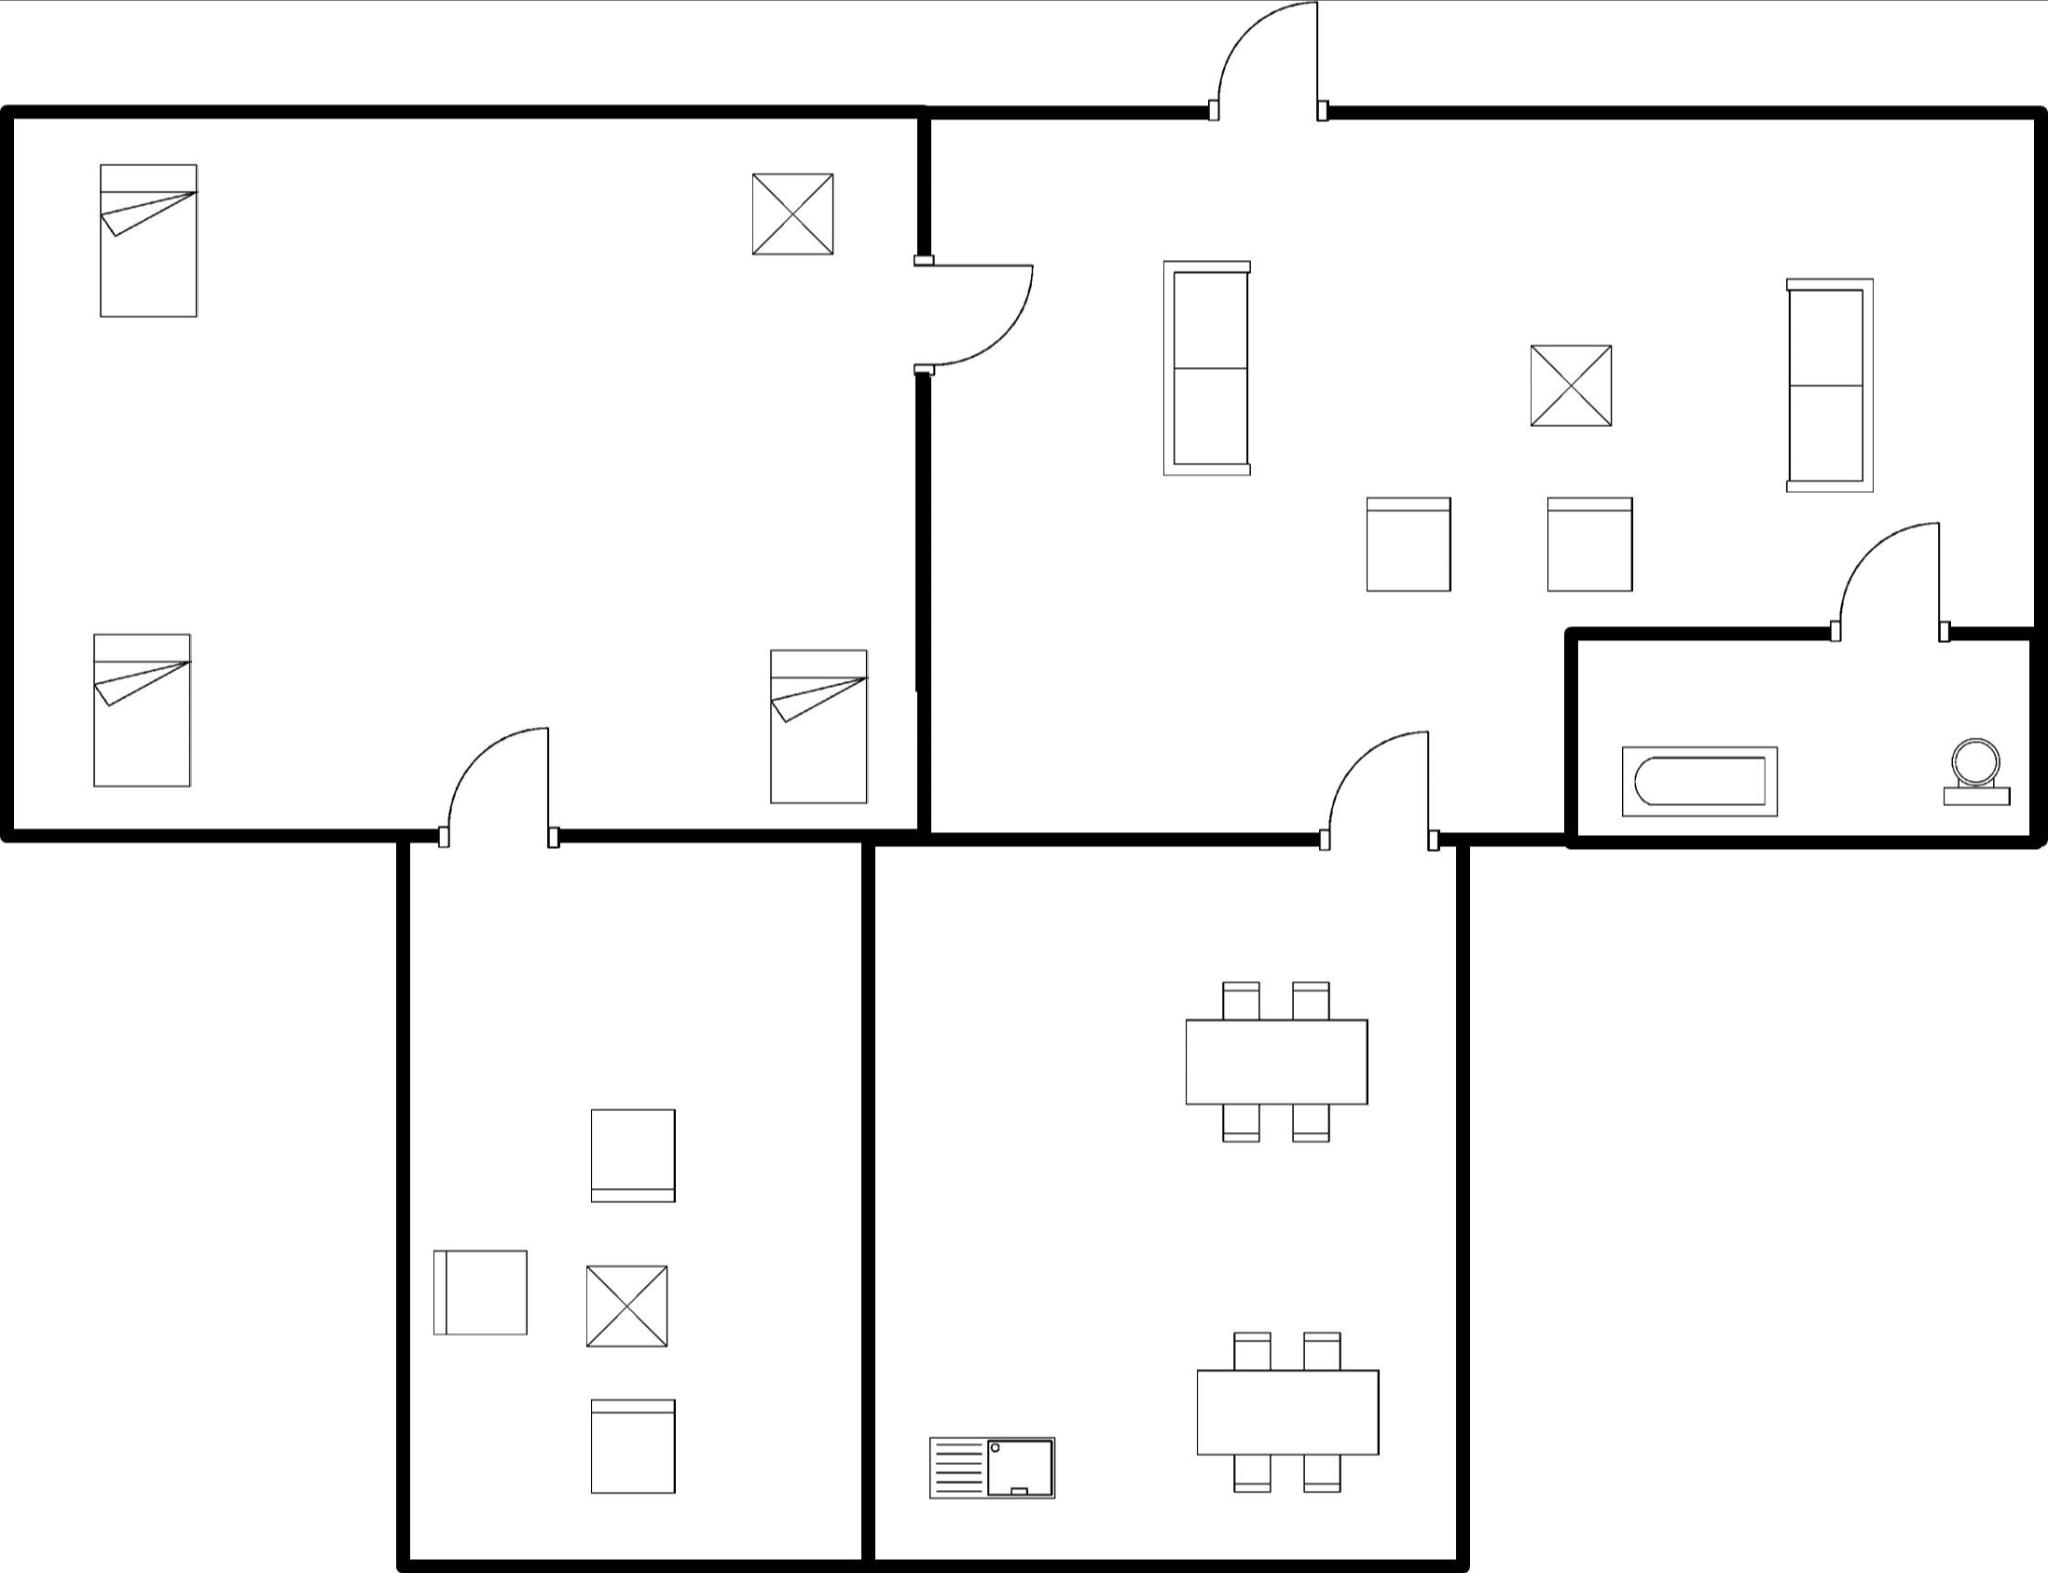bed: (76, 621, 211, 800), (760, 636, 880, 813), (92, 155, 210, 329)
dining_table: (1184, 1317, 1402, 1504), (1176, 970, 1384, 1157)
sink: (922, 1428, 1065, 1514)
sofa: (1767, 264, 1886, 501), (1153, 249, 1267, 486)
toilet: (1926, 732, 2022, 815)
tub: (1619, 730, 1794, 828)
